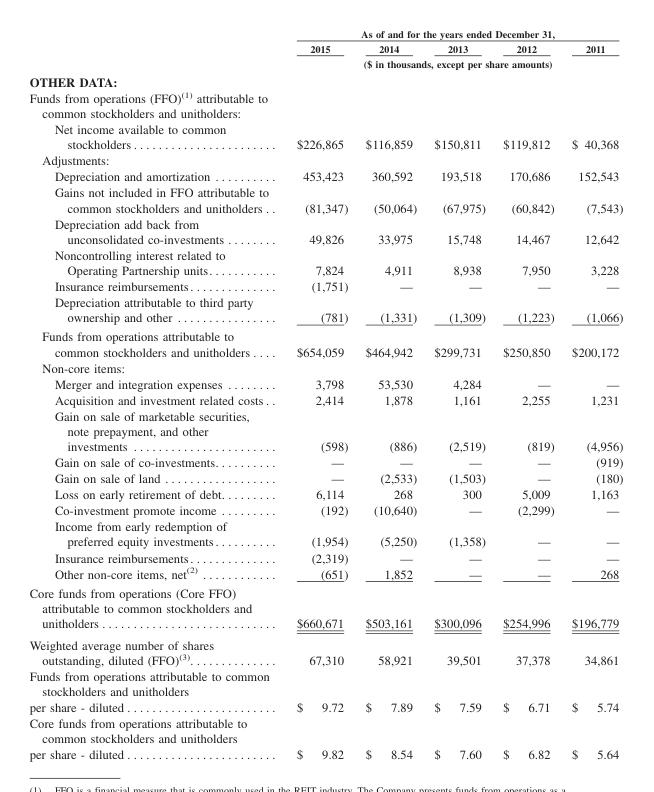table: (28, 29, 622, 761)
table column: (28, 29, 282, 761), (282, 29, 356, 761), (424, 29, 493, 761), (493, 29, 562, 761), (356, 29, 424, 761), (562, 29, 622, 761)
table column header: (28, 29, 622, 72)
table projected row header: (28, 89, 622, 121), (28, 72, 622, 89), (28, 152, 622, 169), (28, 360, 622, 376)
table row: (28, 583, 622, 634), (28, 668, 622, 715), (28, 408, 622, 454), (28, 715, 622, 761), (28, 634, 622, 668), (28, 294, 622, 327), (28, 327, 622, 360), (28, 89, 622, 121), (28, 518, 622, 550), (28, 121, 622, 152), (28, 185, 622, 216), (28, 216, 622, 247), (28, 247, 622, 278), (28, 564, 622, 583), (28, 72, 622, 89), (28, 152, 622, 169), (28, 56, 622, 72), (28, 169, 622, 185), (28, 278, 622, 294), (28, 360, 622, 376), (28, 376, 622, 392), (28, 392, 622, 408), (28, 454, 622, 470), (28, 470, 622, 486), (28, 486, 622, 502), (28, 502, 622, 518), (28, 41, 622, 56), (28, 550, 622, 564), (28, 29, 622, 41)
table spanning cell: (282, 56, 622, 72), (282, 29, 622, 41)
